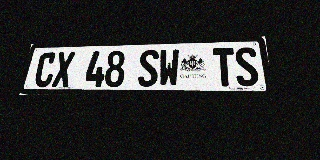4: (84, 51, 107, 87)
8: (104, 50, 126, 87)
C: (33, 52, 57, 87)
S: (234, 47, 260, 86), (137, 50, 159, 87)
T: (212, 48, 236, 86)
W: (158, 49, 179, 87)
X: (51, 52, 75, 87)
